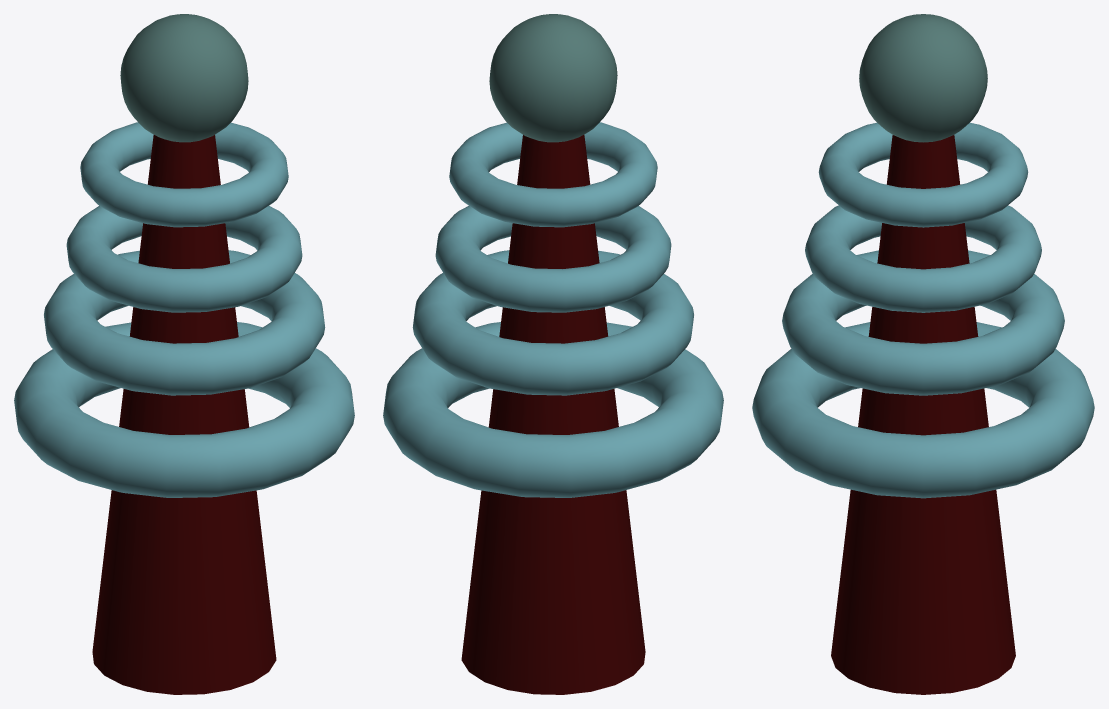
File: Blaster_Turret.fbx
The picture shows the model from 3 angles, left to right: view 1: azimuth 30°, elevation 25°; view 2: azimuth 150°, elevation 25°; view 3: azimuth 270°, elevation 25°; orthographic projection.
Parts seen in each view (by area): view 1: Blaster_Turret; view 2: Blaster_Turret; view 3: Blaster_Turret.
Boxes of the visible parts, bbox=[...] form: Blaster_Turret: bbox=[14, 14, 354, 694]; Blaster_Turret: bbox=[383, 14, 723, 694]; Blaster_Turret: bbox=[752, 14, 1094, 694].
Size of the model in its own units: 1.34 by 2.75 by 1.34.
